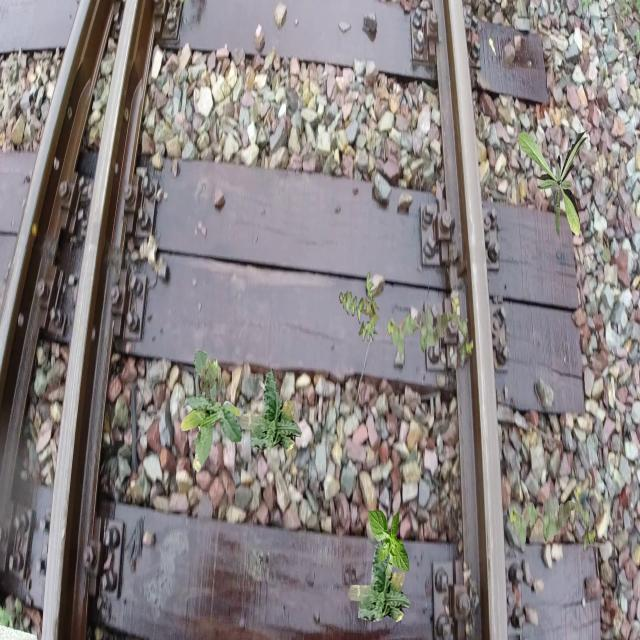Plant: (518, 130, 590, 238), (180, 348, 242, 472), (509, 485, 596, 554), (387, 296, 474, 364), (348, 539, 412, 622), (239, 368, 302, 451), (339, 271, 381, 342), (368, 508, 410, 579), (200, 356, 226, 398)
